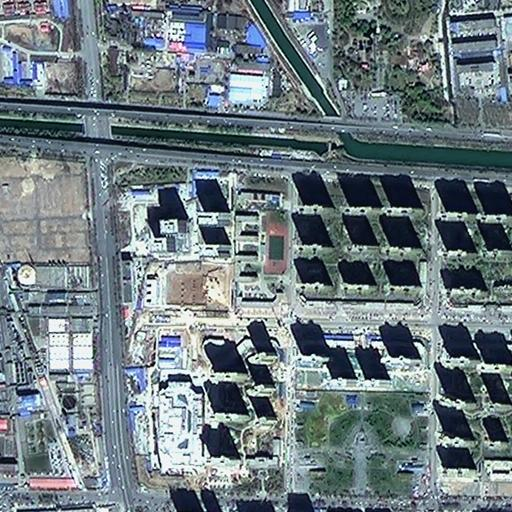school: (232, 188, 288, 314)
